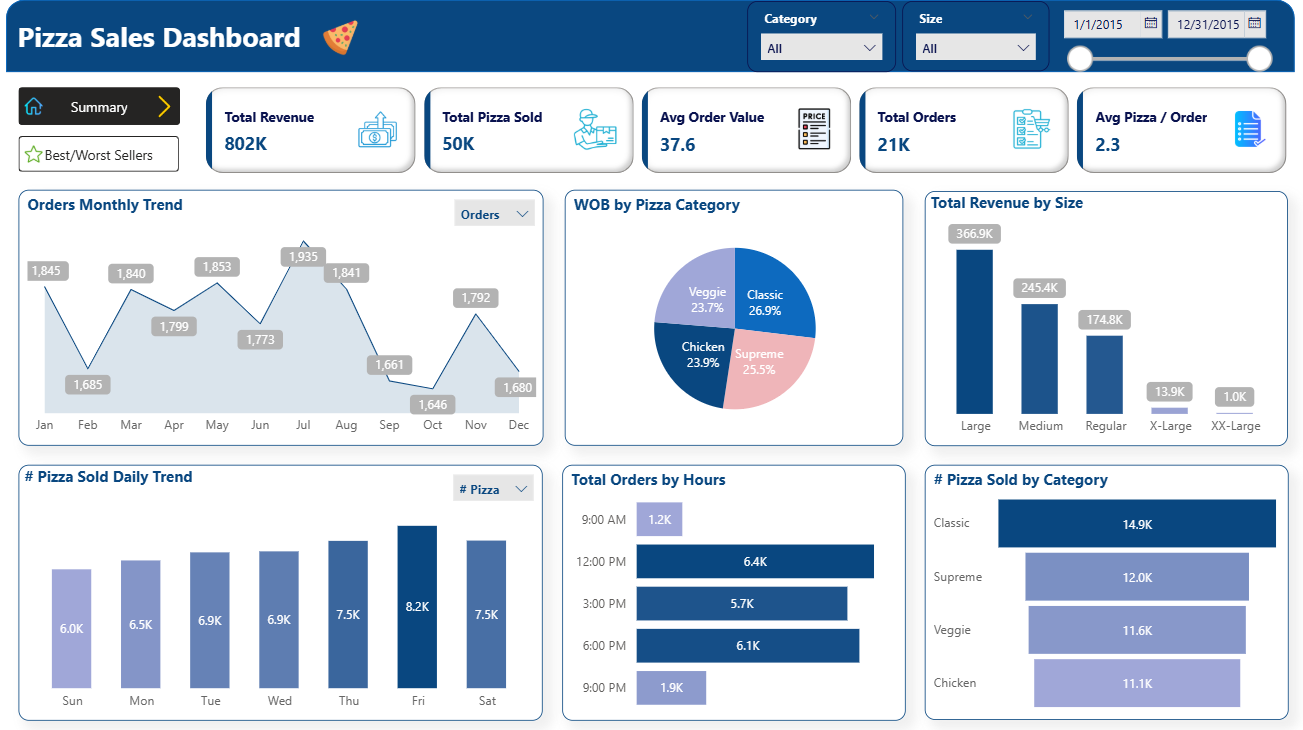

What the dashboard file says about the page in this screenshot:
{"tool":"powerbi","page":{"name":"Summary","canvas":[1280,720],"ordinal":0},"visuals":[{"type":"areaChart","fields":{"Y":["Key Measures.Total Revenue"],"Category":["pizza_sales.Month Name"]},"box":[22,190,513.6,250],"z":0},{"type":"shape","box":[9.8,3.7,1260.7,70.9],"z":1000},{"type":"image","box":[305.7,18.3,62.4,45.2],"z":2000},{"type":"columnChart","fields":{"Y":["Key Measures.Total Orders"],"Category":["pizza_sales.Day Name"]},"box":[22,458,512.5,250],"z":3000},{"type":"pieChart","title":"WOB by Pizza Category","fields":{"Category":["pizza_sales.pizza_category"],"Y":["pizza_sales.Total Revenue"]},"box":[556.1,190,331.4,250],"z":4000},{"type":"funnel","title":"# Pizza Sold by Category","fields":{"Category":["pizza_sales.pizza_category"],"Y":["pizza_sales.Total Pizza Sold"]},"box":[908.6,458.6,355.8,249.5],"z":5000},{"type":"cardVisual","fields":{"Data":["pizza_sales.Total Revenue","pizza_sales.Total Pizza Sold","pizza_sales.Avg Order value","pizza_sales.Total Orders","pizza_sales.Avg Pizza Per Order"]},"box":[200.5,84.4,1070,94.2],"z":6000},{"type":"group","id":"g1","title":"Group 1","box":[22,89.5,159,37.9],"z":7000},{"type":"group","id":"g2","title":"Group 2","box":[22,136.7,157.7,35.5],"z":8000},{"type":"clusteredBarChart","fields":{"Category":["pizza_sales.order_time (bins)"],"Y":["Key Measures.Total Orders"]},"box":[553.7,458,336.3,250],"z":9000},{"type":"slicer","fields":{"Values":["pizza_sales.order_date"]},"box":[1032.1,3.7,225,73],"z":10000},{"type":"slicer","fields":{"Values":["pizza_sales.pizza_category"]},"box":[734.9,4.9,145.5,69.7],"z":11000},{"type":"slicer","fields":{"Values":["pizza_sales.pizza_size"]},"box":[886.6,4.9,144.3,68.5],"z":12000},{"type":"columnChart","title":"Total Revenue by Size","fields":{"Category":["Pizza Sales.Pizza Size"],"Y":["Key Measures.Total Revenue"]},"box":[908.6,190.6,355.4,249.5],"z":13000},{"type":"slicer","fields":{"Values":["Totals.Totals"]},"box":[443.9,198.1,88,38],"z":14000},{"type":"slicer","fields":{"Values":["Daily Kpis.Daily Kpis"]},"box":[442.7,462.2,88,38],"z":15000},{"type":"pageNavigator","box":[22,89.7,159,37.7],"z":22000,"group":"g1"},{"type":"pageNavigator","box":[22,137,157.7,35.2],"z":23000,"group":"g2"},{"type":"image","box":[23.1,89.5,27.2,37.5],"z":24000,"group":"g1"},{"type":"image","box":[23.3,136.7,27.1,35.4],"z":25000,"group":"g2"},{"type":"image","box":[149.1,89.5,31.2,37.5],"z":26000,"group":"g1"}]}

Visuals, with their boxes in screenshot pixels (x1, y1, x2, y2), scaled from the page's 1280x720 canvas onto the 1303x730 screenshot:
areaChart - Key Measures.Total Revenue x pizza_sales.Month Name: locate(22, 193, 545, 446)
shape: locate(10, 4, 1293, 76)
image: locate(311, 19, 375, 64)
columnChart - Key Measures.Total Orders x pizza_sales.Day Name: locate(22, 464, 544, 718)
"WOB by Pizza Category" pieChart: locate(566, 193, 903, 446)
"# Pizza Sold by Category" funnel: locate(925, 465, 1287, 718)
cardVisual - pizza_sales.Total Revenue x pizza_sales.Total Pizza Sold: locate(204, 86, 1293, 181)
"Group 1" group: locate(22, 91, 184, 129)
"Group 2" group: locate(22, 139, 183, 175)
clusteredBarChart - pizza_sales.order_time (bins) x Key Measures.Total Orders: locate(564, 464, 906, 718)
slicer - pizza_sales.order_date: locate(1051, 4, 1280, 78)
slicer - pizza_sales.pizza_category: locate(748, 5, 896, 76)
slicer - pizza_sales.pizza_size: locate(903, 5, 1049, 74)
"Total Revenue by Size" columnChart: locate(925, 193, 1287, 446)
slicer - Totals.Totals: locate(452, 201, 541, 239)
slicer - Daily Kpis.Daily Kpis: locate(451, 469, 540, 507)
pageNavigator: locate(22, 91, 184, 129)
pageNavigator: locate(22, 139, 183, 175)
image: locate(24, 91, 51, 129)
image: locate(24, 139, 51, 174)
image: locate(152, 91, 184, 129)
